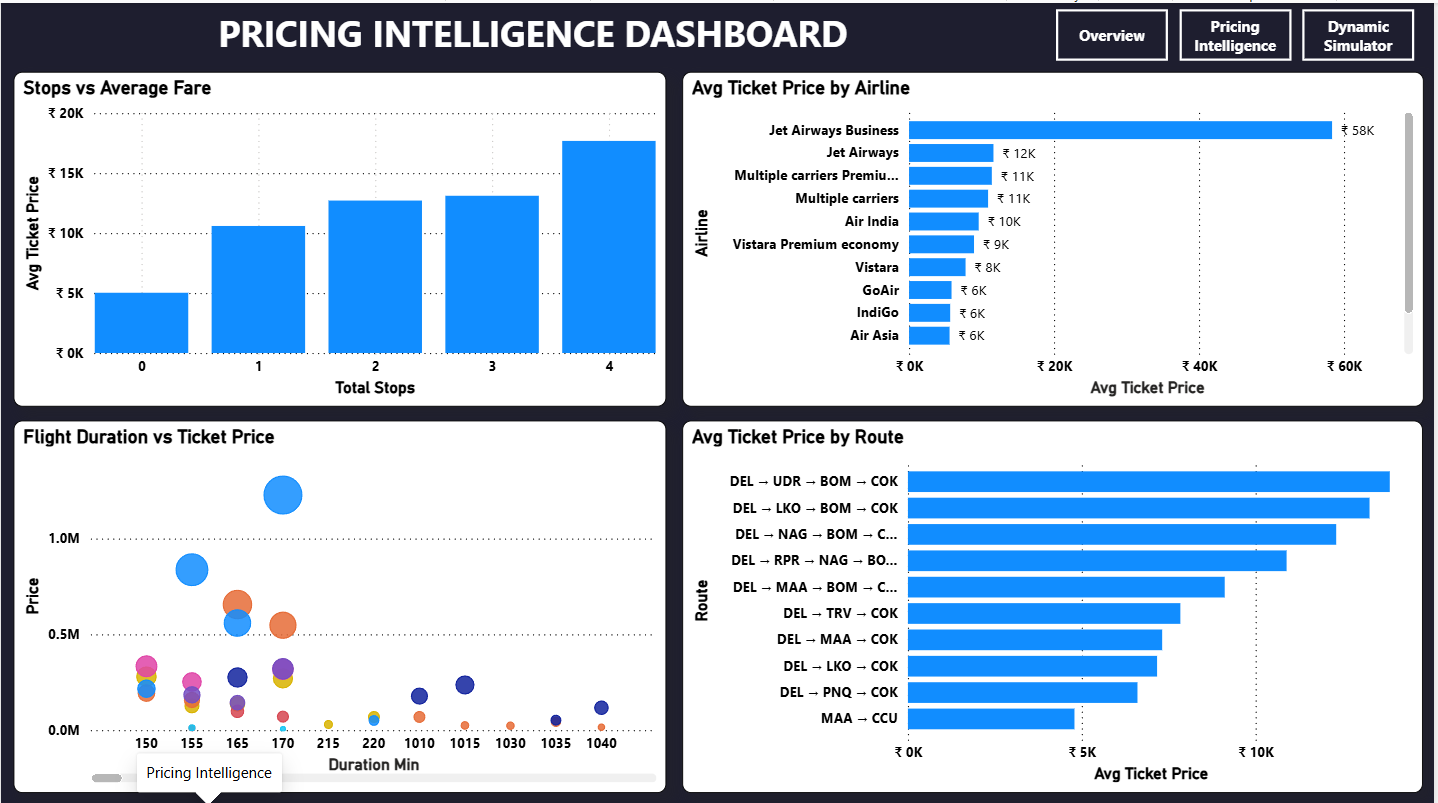

What the dashboard file says about the page in this screenshot:
{"tool":"powerbi","page":{"name":"Pricing Intelligence","canvas":[1280,720],"ordinal":1},"visuals":[{"type":"clusteredColumnChart","title":"Stops vs Average Fare","fields":{"Category":["Airline.Total_Stops"],"Y":["Airline.Avg Ticket Price"]},"box":[11.2,61.4,582.9,299.3],"z":0},{"type":"clusteredBarChart","fields":{"Category":["Airline.Airline"],"Y":["Airline.Avg Ticket Price"]},"box":[608.6,61.4,662.2,299.3],"z":1000},{"type":"scatterChart","title":"Flight Duration vs Ticket Price","fields":{"X":["Airline.Duration_mins"],"Y":["Sum(Airline.Price)"],"Series":["Airline.Airline"],"Size":["Sum(Airline.Price)"]},"box":[10.8,373.4,583.6,332.6],"z":2000},{"type":"barChart","fields":{"Category":["Airline.Route"],"Y":["Airline.Avg Ticket Price"]},"box":[608.8,373.4,661.6,332.6],"z":3000},{"type":"textbox","box":[11.2,0,927.9,52.5],"z":4000},{"type":"pageNavigator","box":[942.4,5.6,320.5,46.9],"z":9000}]}

Visuals, with their boxes in screenshot pixels (x1, y1, x2, y2), scaled from the page's 1280x720 canvas onto the 1438x803 screenshot:
"Stops vs Average Fare" clusteredColumnChart: locate(13, 68, 667, 402)
clusteredBarChart - Airline.Airline x Airline.Avg Ticket Price: locate(684, 68, 1428, 402)
"Flight Duration vs Ticket Price" scatterChart: locate(12, 416, 668, 787)
barChart - Airline.Route x Airline.Avg Ticket Price: locate(684, 416, 1427, 787)
textbox: locate(13, 0, 1055, 59)
pageNavigator: locate(1059, 6, 1419, 59)
